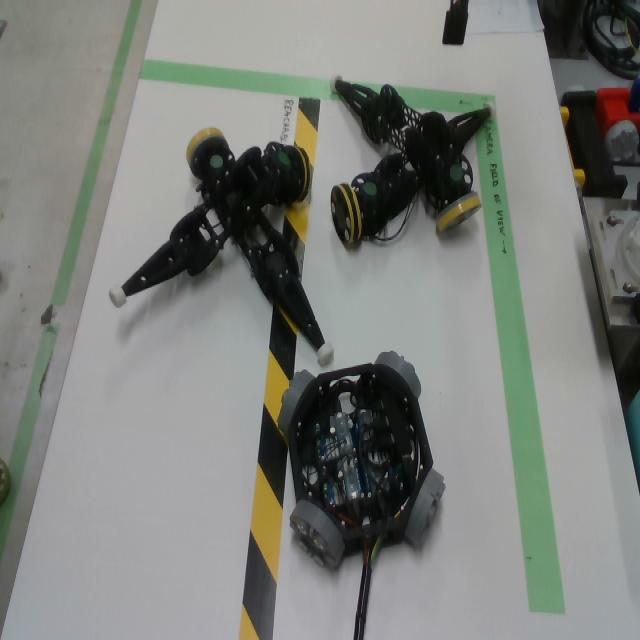body: (289, 363, 433, 560)
body_connector: (289, 500, 345, 569), (404, 469, 446, 549), (278, 369, 316, 436), (374, 351, 422, 399)
leg: (108, 141, 312, 309), (329, 73, 481, 231), (234, 212, 334, 367), (330, 153, 424, 247), (186, 128, 236, 200), (447, 100, 496, 152)
leg_connector: (186, 127, 231, 179), (330, 183, 361, 244), (436, 192, 482, 233), (286, 145, 313, 204)
leg_marker: (450, 165, 464, 181), (363, 181, 377, 196), (278, 151, 290, 166), (211, 154, 223, 168)
